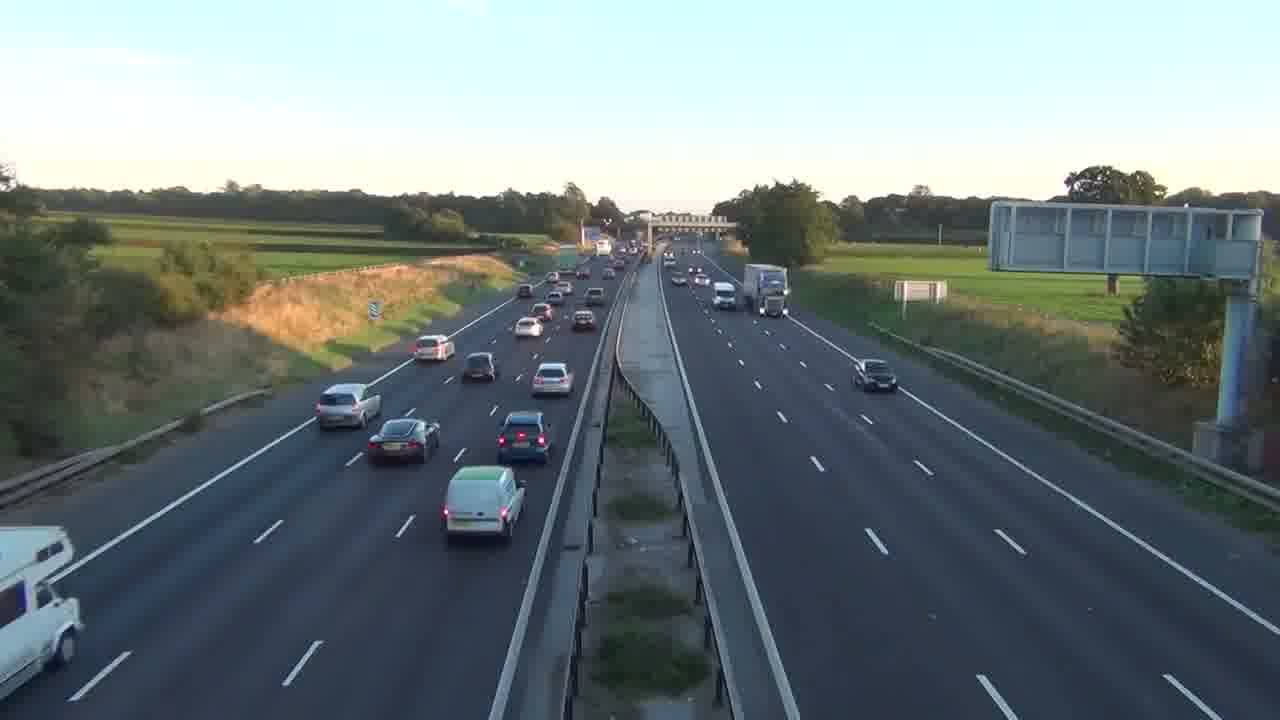car: (439, 464, 528, 543), (366, 417, 439, 465), (315, 382, 383, 431), (496, 410, 551, 465), (850, 356, 897, 393), (530, 361, 574, 398), (461, 352, 497, 383), (572, 307, 597, 332)
truck: (0, 524, 85, 701)
